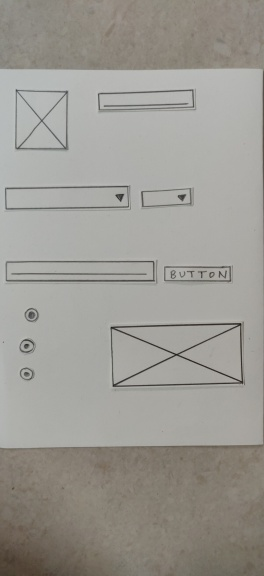button: (162, 263, 235, 285)
dropdown: (1, 181, 135, 215), (138, 185, 197, 209)
img: (106, 320, 248, 389), (11, 85, 71, 155)
radio: (20, 305, 43, 325), (16, 364, 37, 383), (17, 336, 36, 355)
text: (3, 256, 160, 288), (95, 86, 199, 115)
